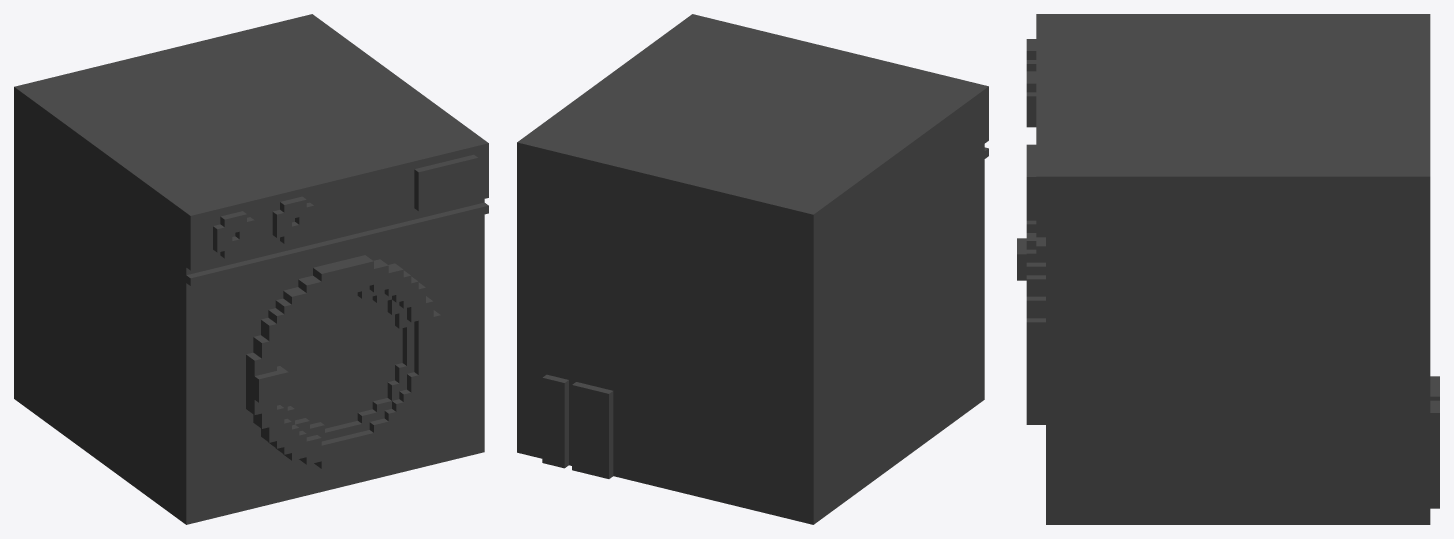
Rendered from washingmachine.obj.
The picture shows the model from 3 angles, left to right: view 1: azimuth 30°, elevation 25°; view 2: azimuth 150°, elevation 25°; view 3: azimuth 270°, elevation 25°; orthographic projection. The views are drawn at different scales.
Bounding box in the file's own units: 40 × 40 × 44.
